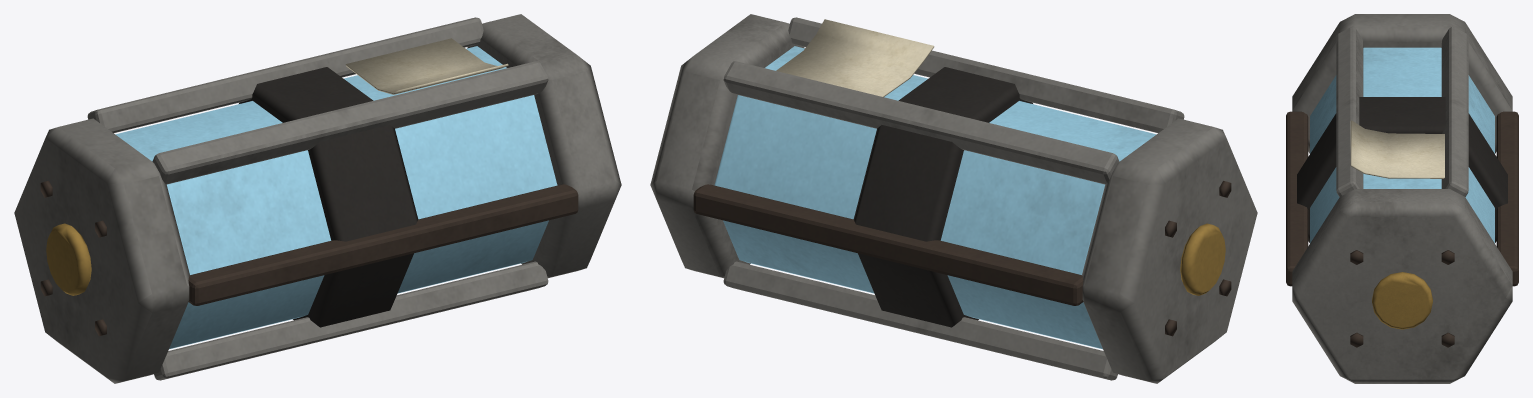
Rendered from prop_shield_cell_01.gltf.
The picture shows the model from 3 angles, left to right: view 1: azimuth 30°, elevation 25°; view 2: azimuth 150°, elevation 25°; view 3: azimuth 270°, elevation 25°; orthographic projection. The views are drawn at different scales.
Visible parts, largest first — view 1: prop_shield_cell_01_item_atlas_01; view 2: prop_shield_cell_01_item_atlas_01; view 3: prop_shield_cell_01_item_atlas_01.
Part boxes in pixels (bbox=[...]): prop_shield_cell_01_item_atlas_01: bbox=[14, 14, 621, 383]; prop_shield_cell_01_item_atlas_01: bbox=[650, 14, 1257, 383]; prop_shield_cell_01_item_atlas_01: bbox=[1286, 14, 1518, 383].
Size of the model in its own units: 0.146 by 0.0632 by 0.0686.
1 material, 1 textured.
